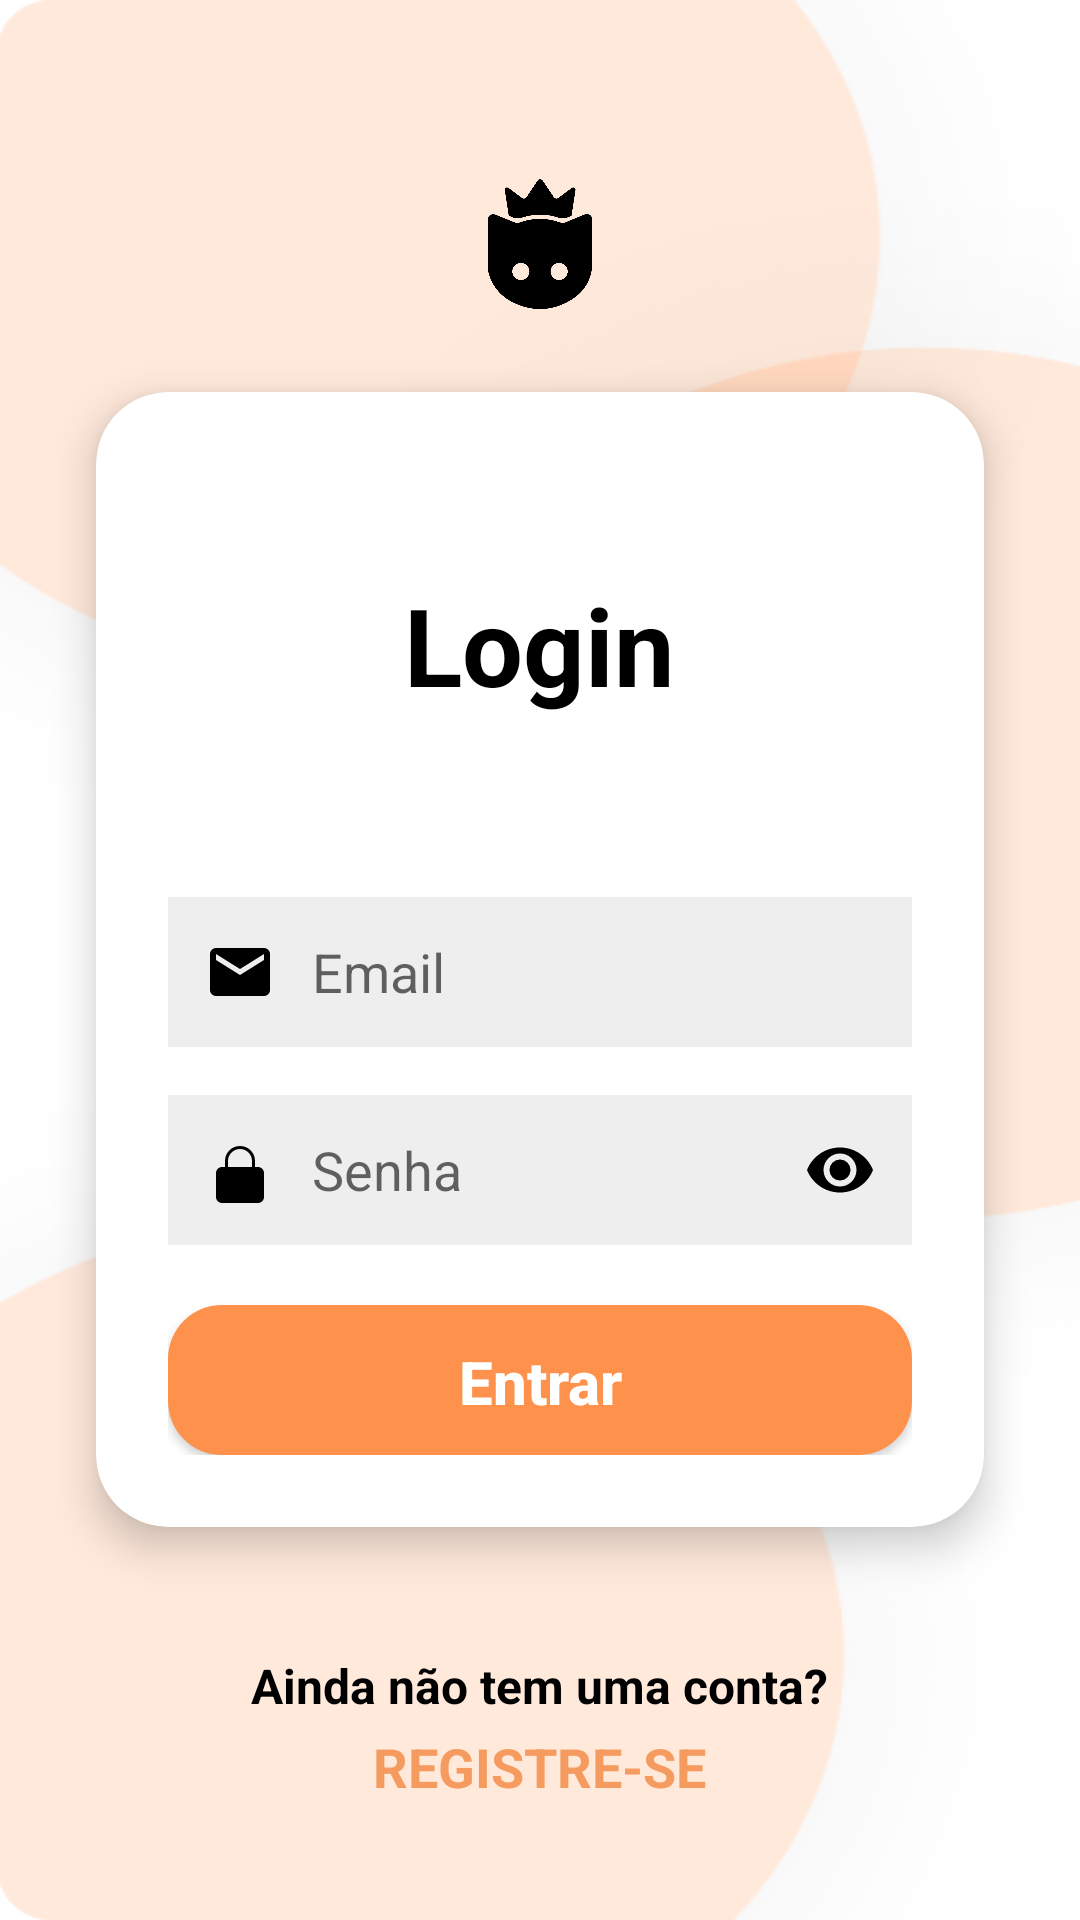

Screen size 1080w x 1920h. Icon name, then its box in pixels as Rect(x1, y1, x2, y2):
lock: Rect(216, 1146, 264, 1203)
visibility: Rect(807, 1147, 873, 1193)
